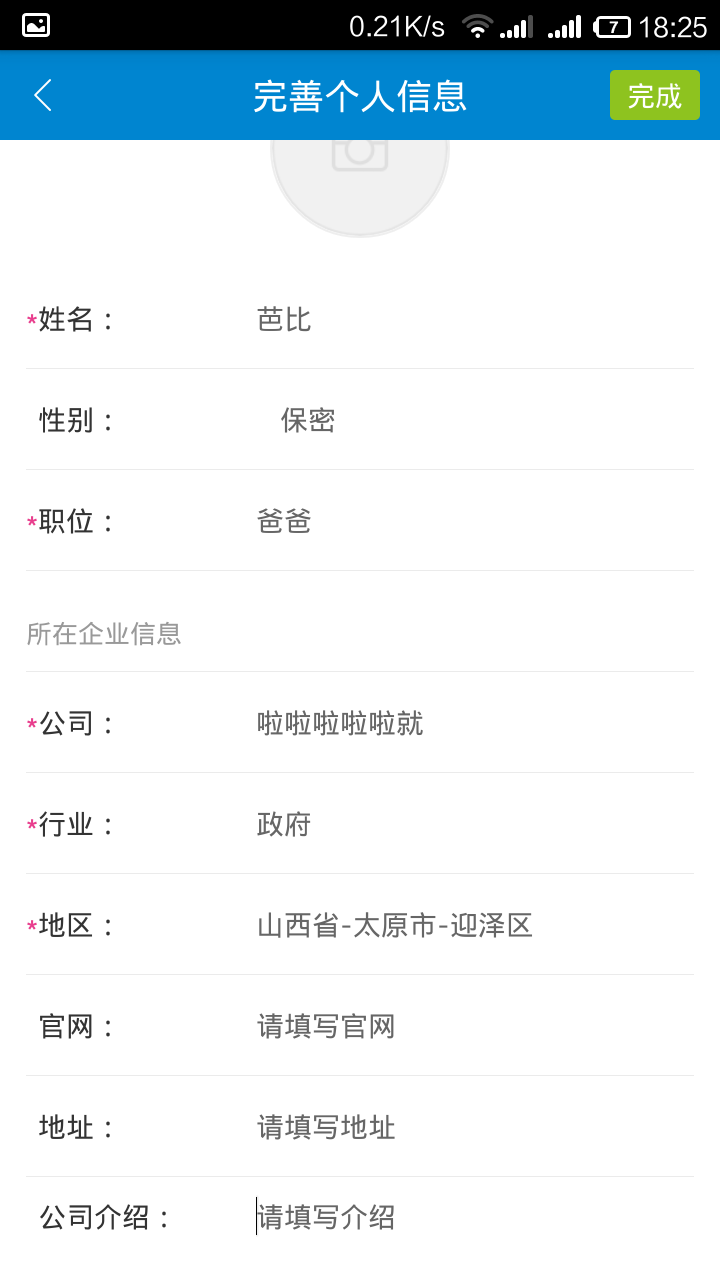imgbutton: (23, 75, 78, 123)
textview: (8, 660, 720, 1275)
